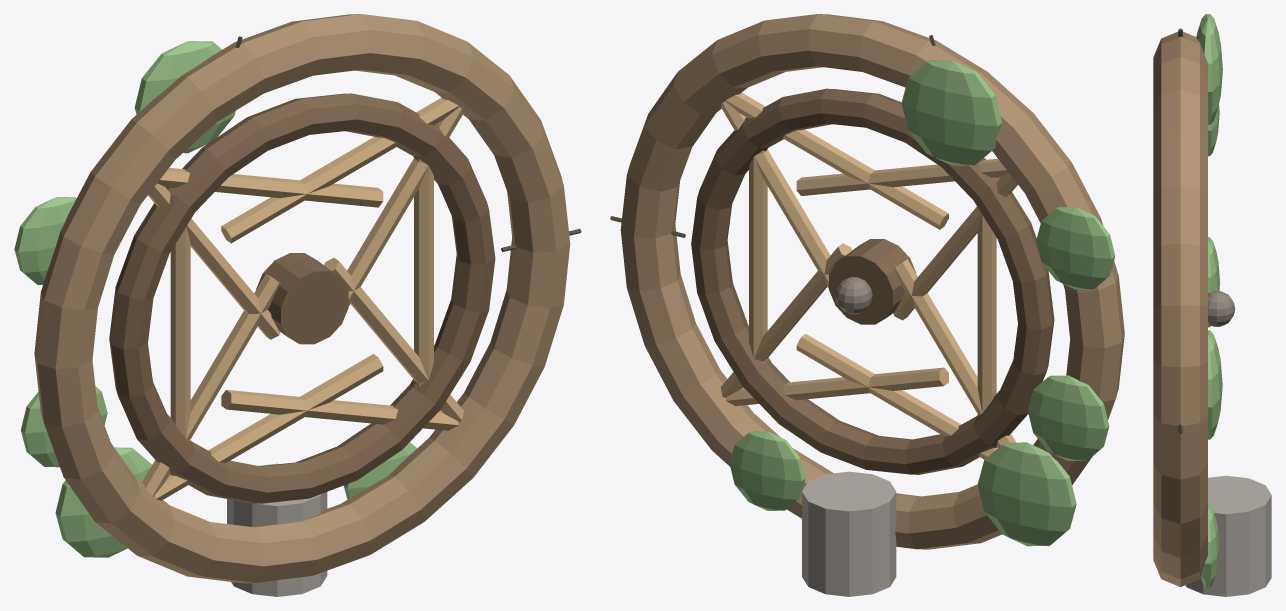
The model's file is oboro_wheel.glb.
The picture shows the model from 3 angles, left to right: view 1: azimuth 30°, elevation 25°; view 2: azimuth 150°, elevation 25°; view 3: azimuth 270°, elevation 25°; orthographic projection. The views are drawn at different scales.
Visible parts, largest first — view 1: oboro_wheel; view 2: oboro_wheel; view 3: oboro_wheel.
Part boxes in pixels (<box>): oboro_wheel: <box>14,14,581,596</box>; oboro_wheel: <box>610,14,1124,596</box>; oboro_wheel: <box>1153,14,1271,596</box>.
Bounding box in the file's own units: 1.26 × 1.26 × 0.26.
